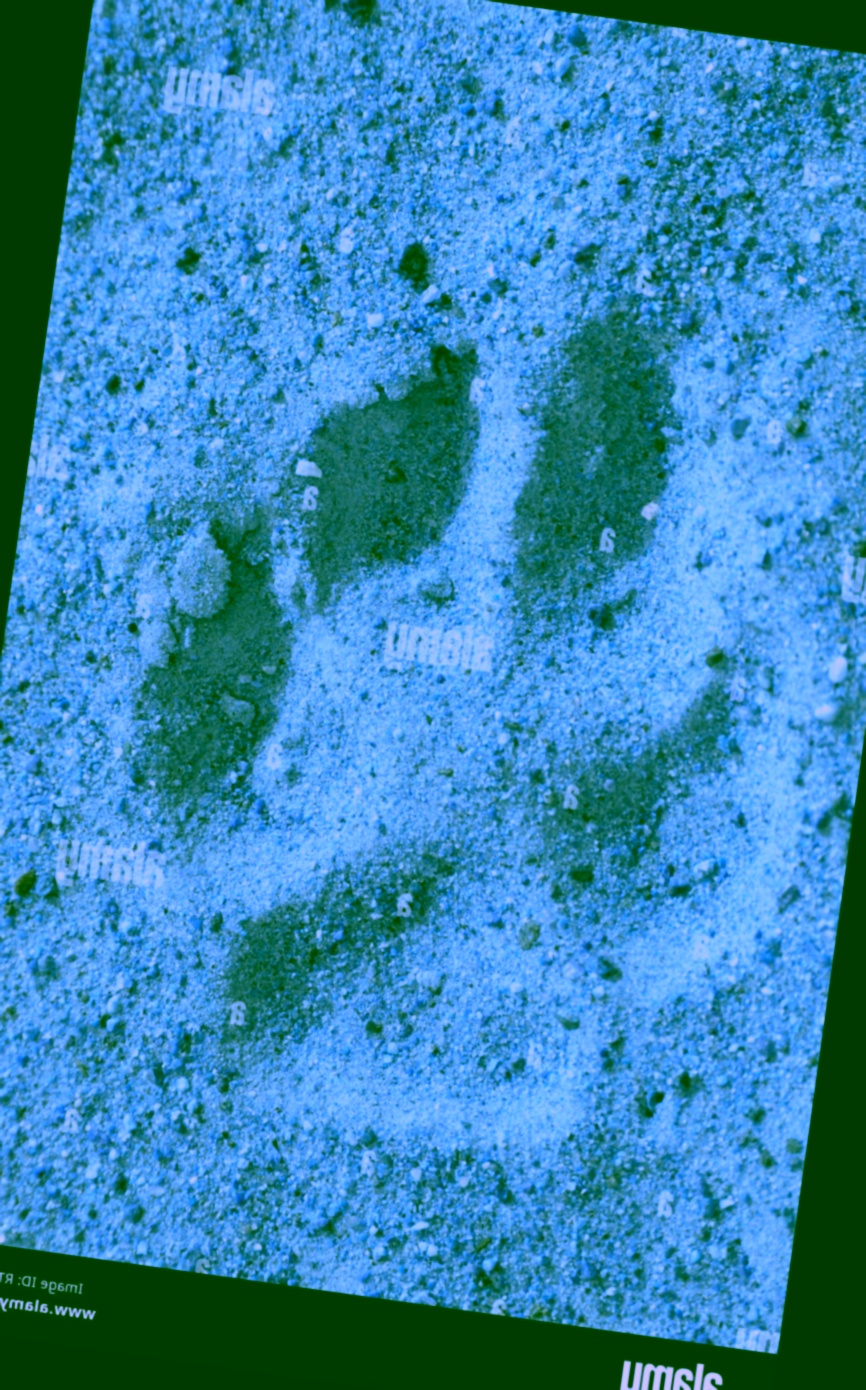loup: (1, 159, 866, 1259)
